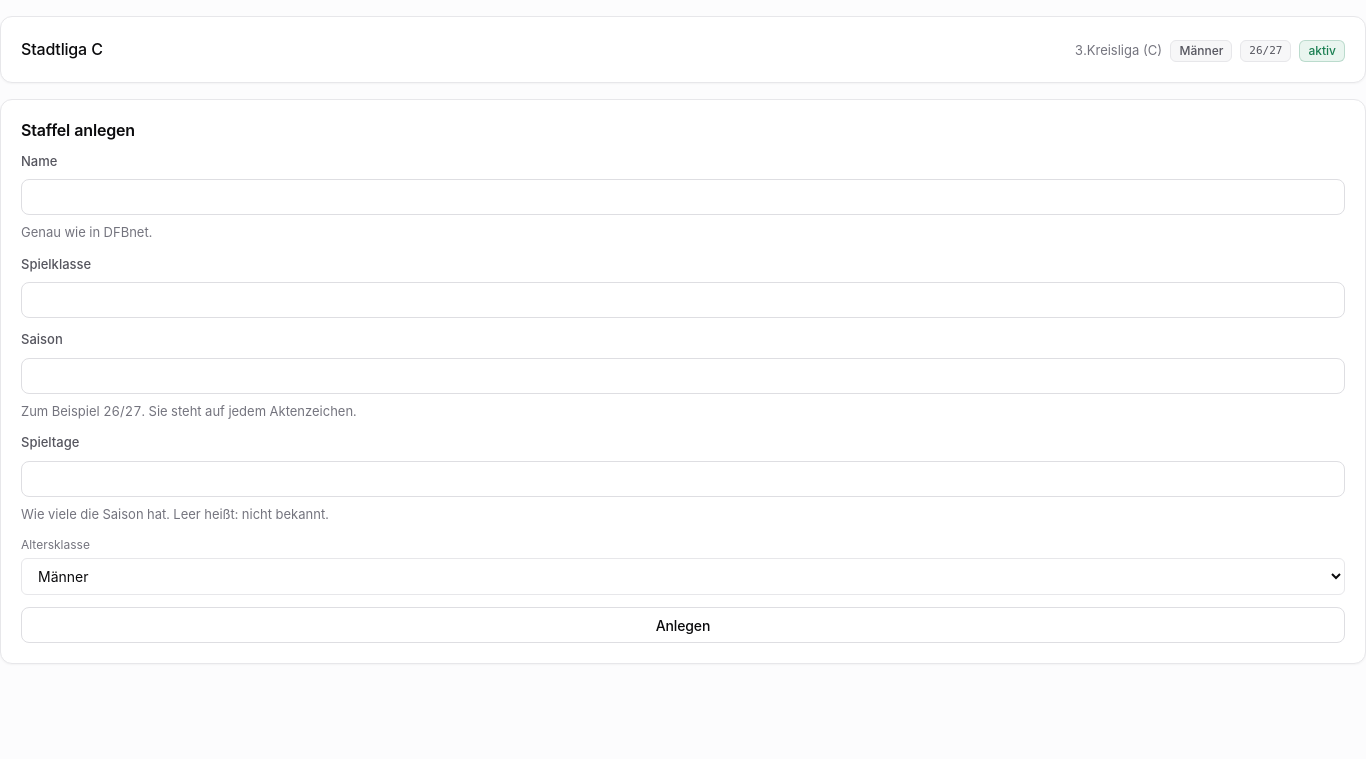
Test: Staffeln verwalten › fragt vor dem Löschen nach und sagt, was mitgeht
Click the button "Stadtliga C 3.Kreisliga (C) Männer 26/27 aktiv" at (62, 49), box [21,37,1345,62]
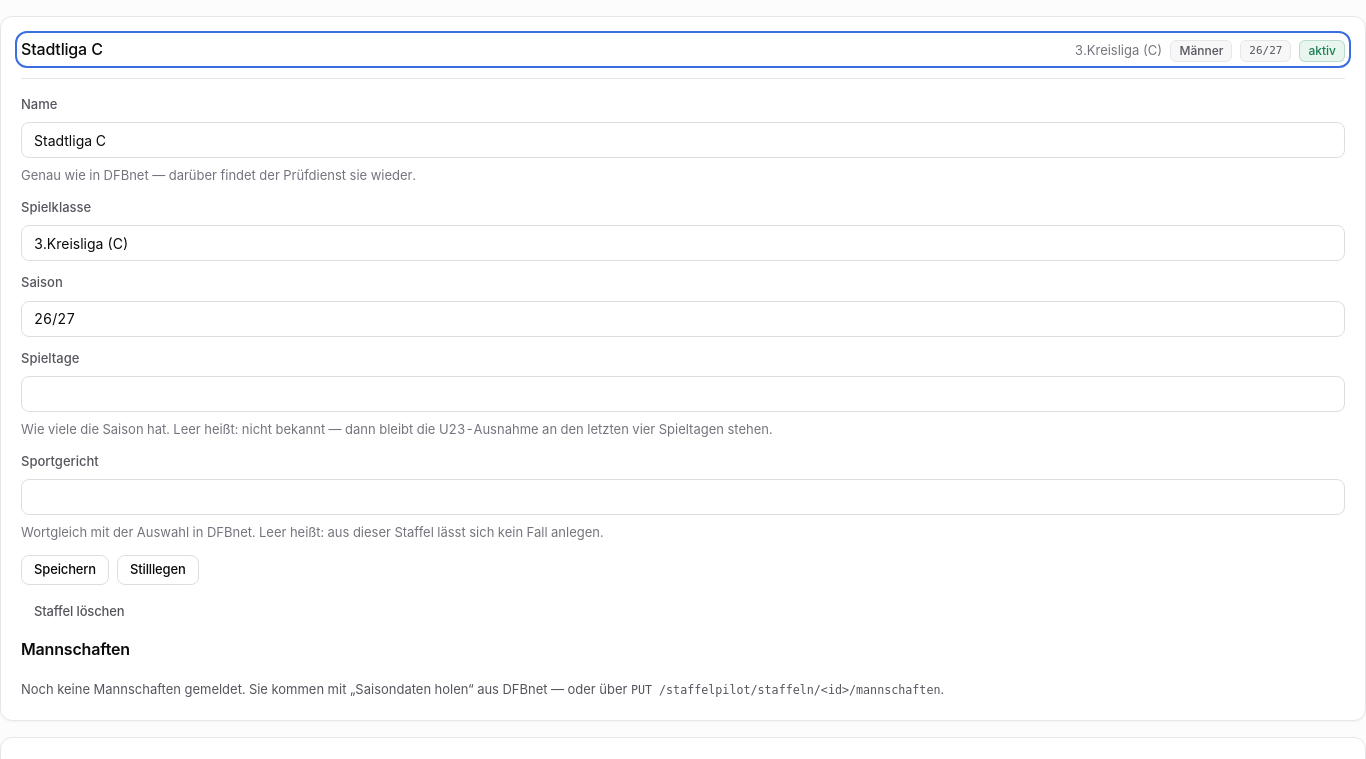
Click the button "Staffel löschen" at (79, 612), box [21,597,137,627]
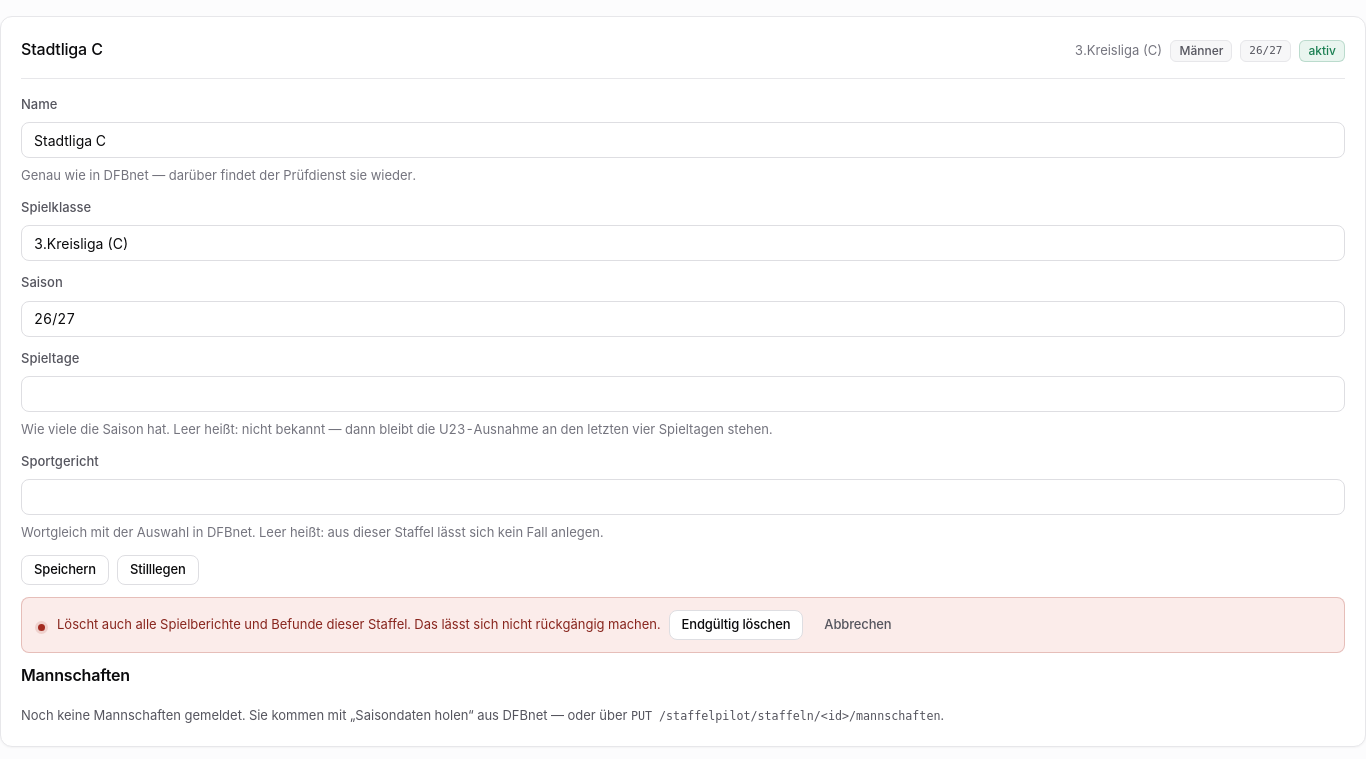
Expected: the message shows "alle Spielberichte und Befunde", [57,616,660,632]
